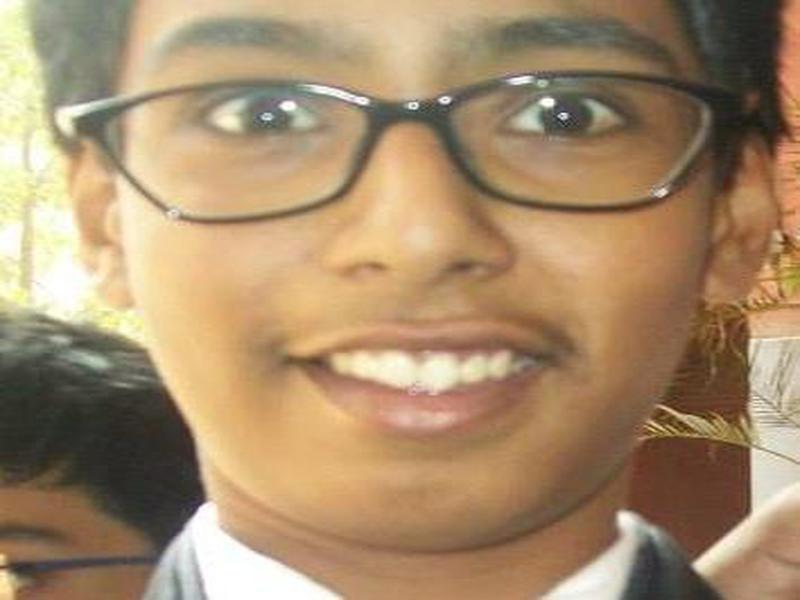without_mask: (106, 6, 708, 557)
